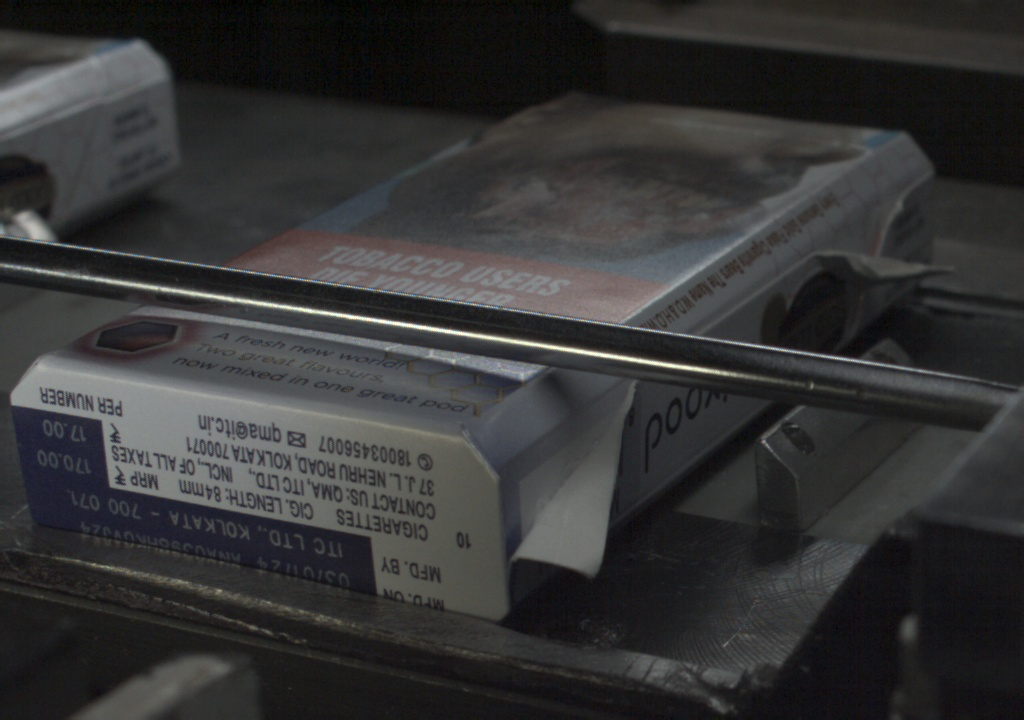g_bottom: (11, 358, 497, 618)
g_label: (23, 484, 375, 595)
ng_lmiter: (504, 380, 637, 581), (820, 231, 955, 287)
ng_miter: (883, 172, 945, 216)
price: (17, 414, 109, 486)
